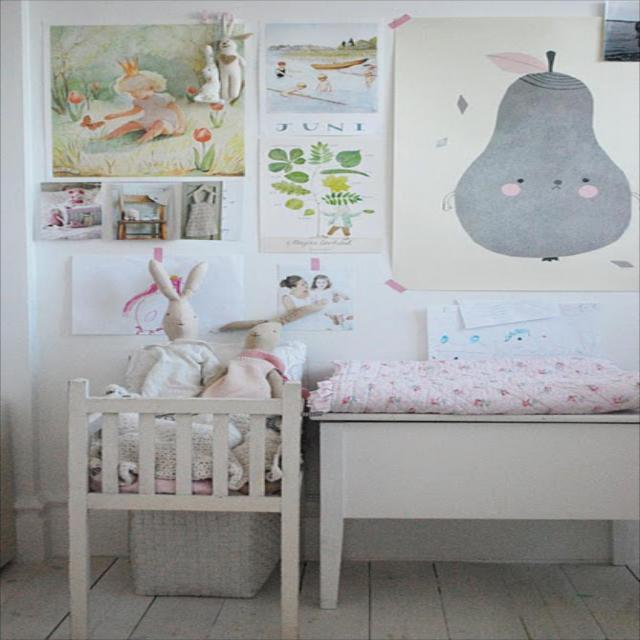Pear: (449, 73, 633, 260)
